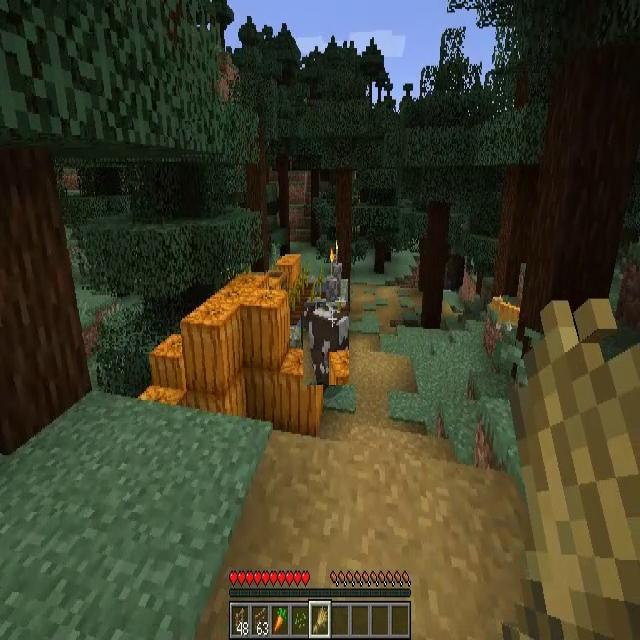cow: (303, 302, 349, 385)
